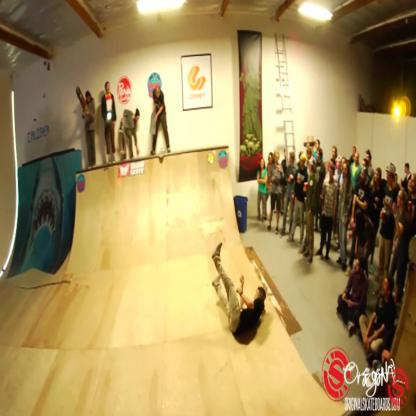Fall_Down: (209, 239, 268, 343)
